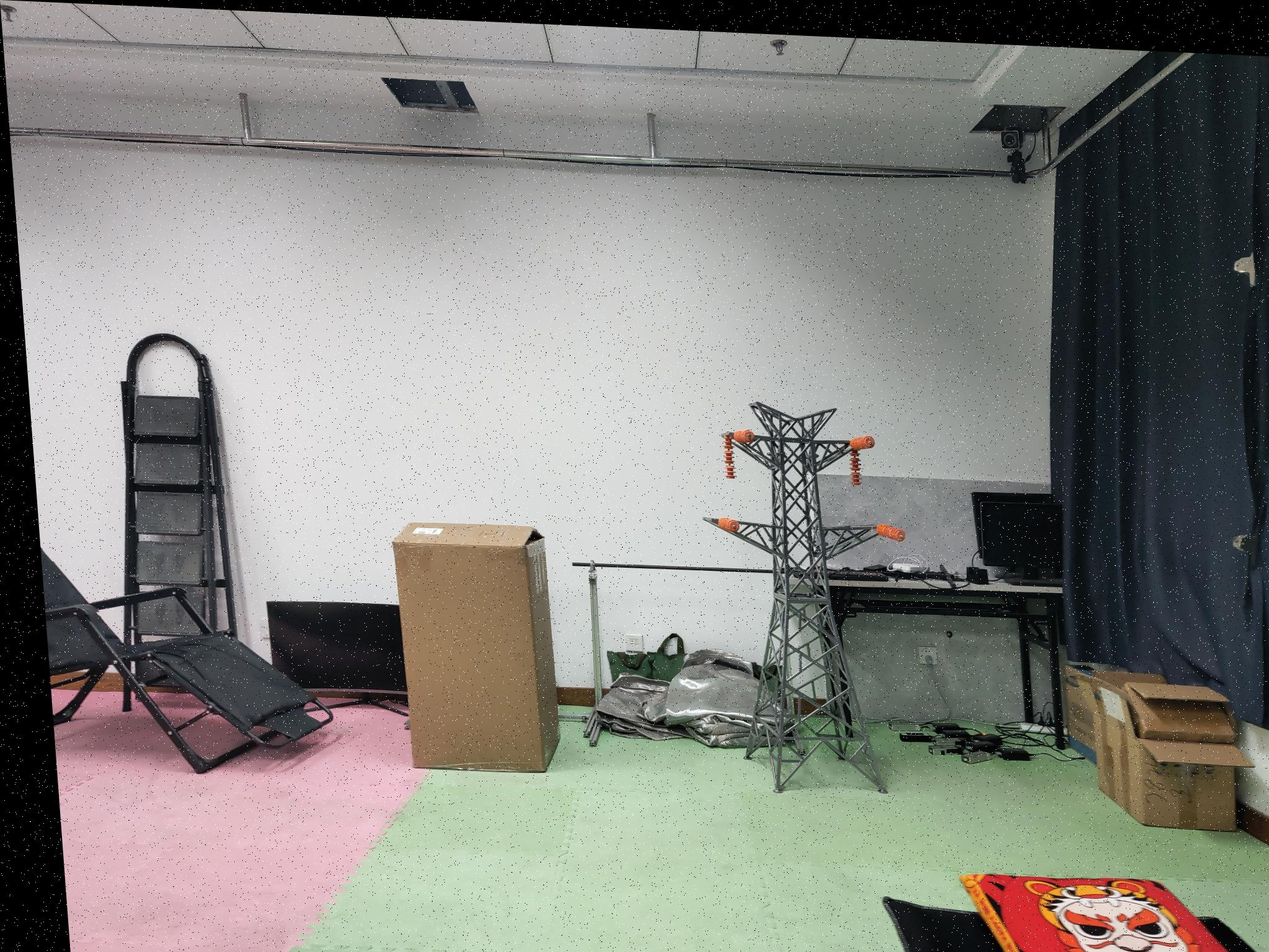tower: (698, 399, 891, 797)
